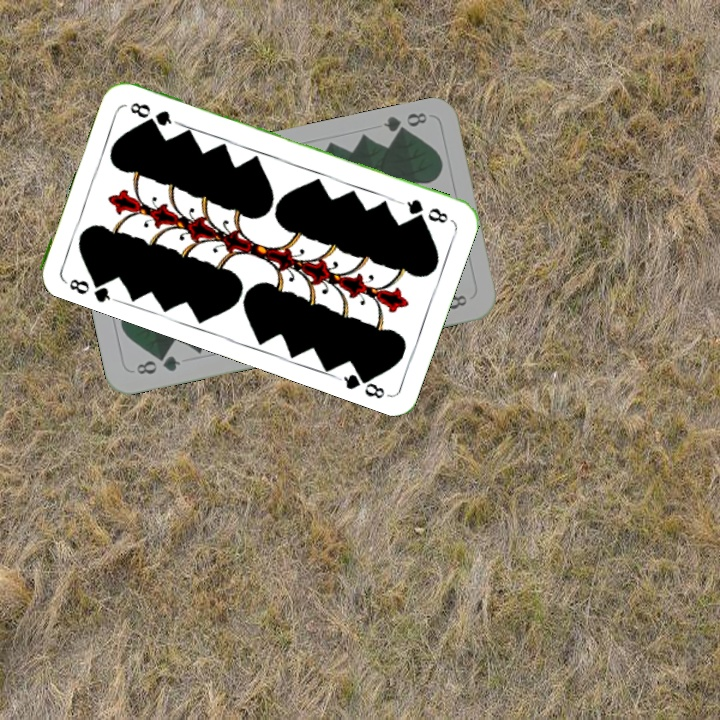G8: (60, 271, 117, 305), (396, 195, 451, 226), (379, 108, 430, 140), (132, 351, 183, 377)
